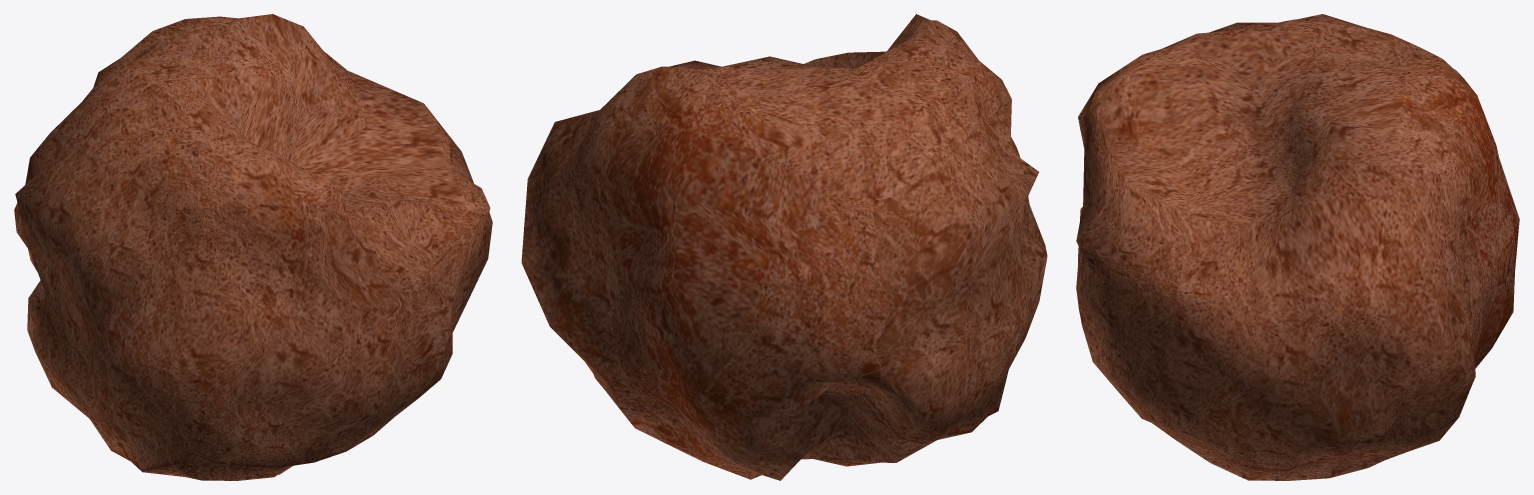
The model's file is Rock_06.fbx.
3 views of the same model, side by side, from view 1: azimuth 30°, elevation 25°; view 2: azimuth 150°, elevation 25°; view 3: azimuth 270°, elevation 25° (orthographic). The views are drawn at different scales.
Visible parts, largest first — view 1: Rock_06; view 2: Rock_06; view 3: Rock_06.
Boxes of the visible parts, x1=… form: Rock_06: x1=14, y1=14, x2=492, y2=480; Rock_06: x1=521, y1=14, x2=1047, y2=480; Rock_06: x1=1076, y1=14, x2=1519, y2=480.
Bounding box in the file's own units: 10.83 × 9.54 × 9.66.
